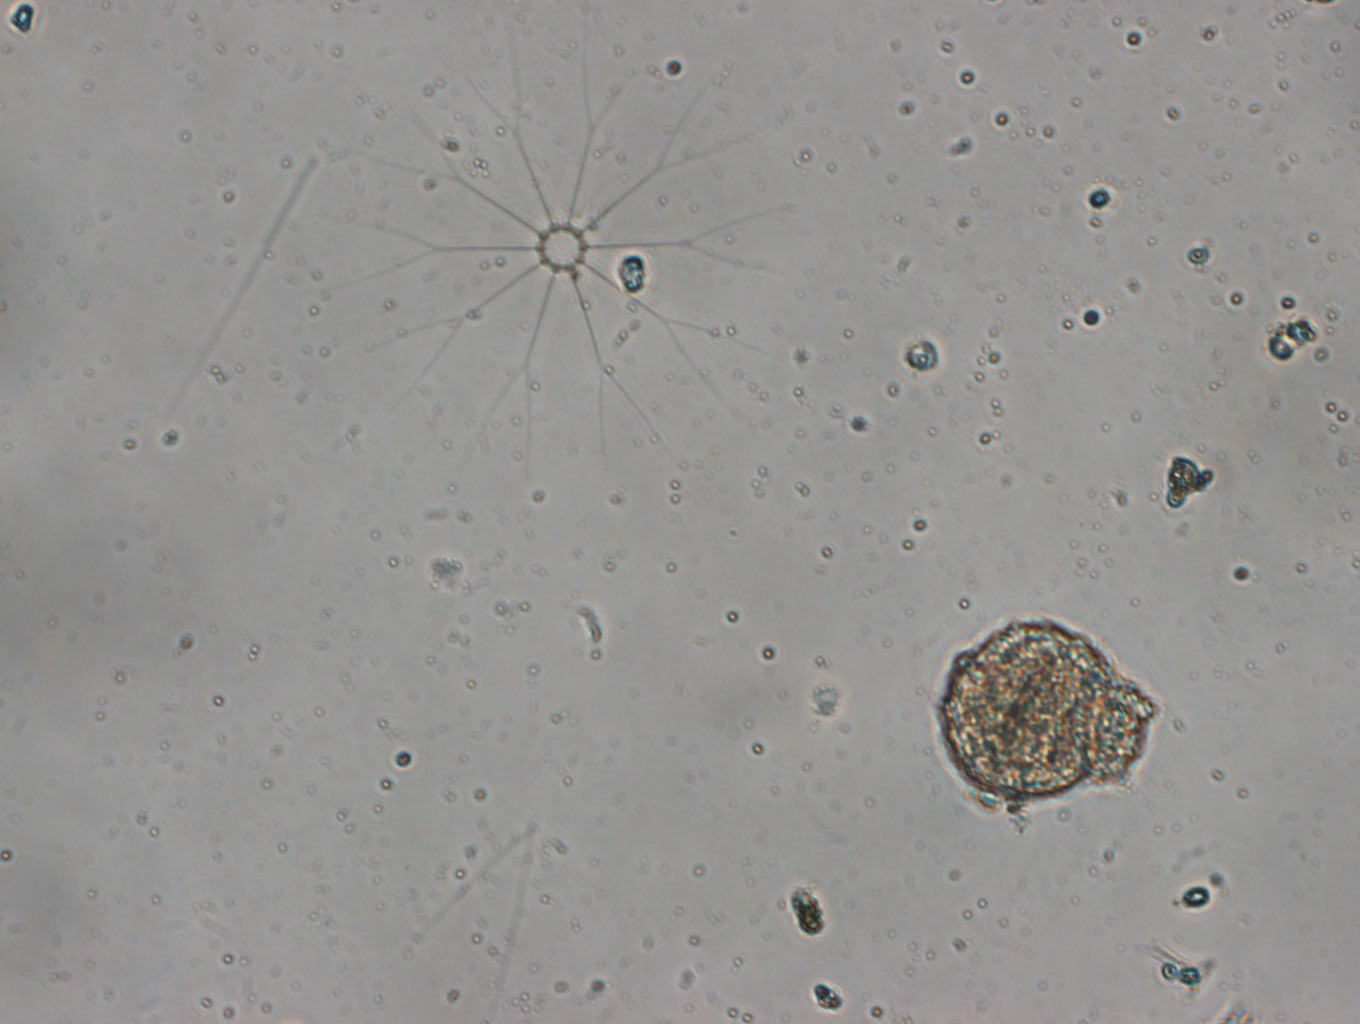bacteriastrum: (299, 14, 785, 493)
